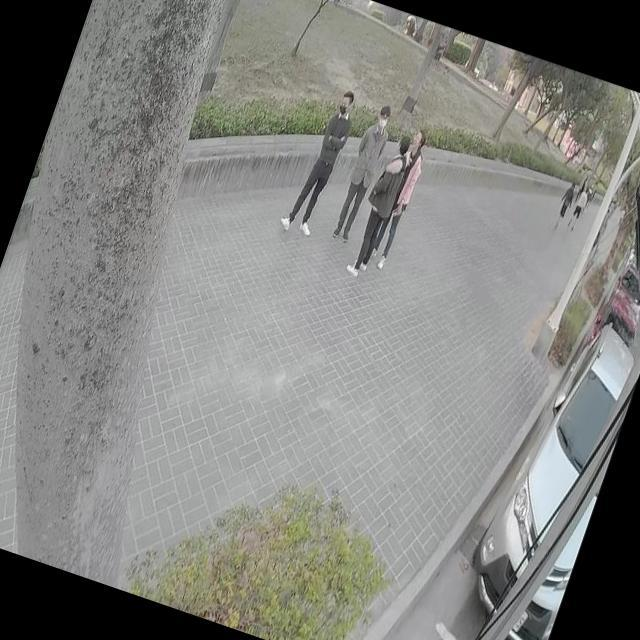person: (340, 128, 420, 284), (286, 82, 362, 236), (364, 124, 437, 272), (328, 99, 398, 245), (550, 175, 581, 232), (562, 180, 592, 233)
